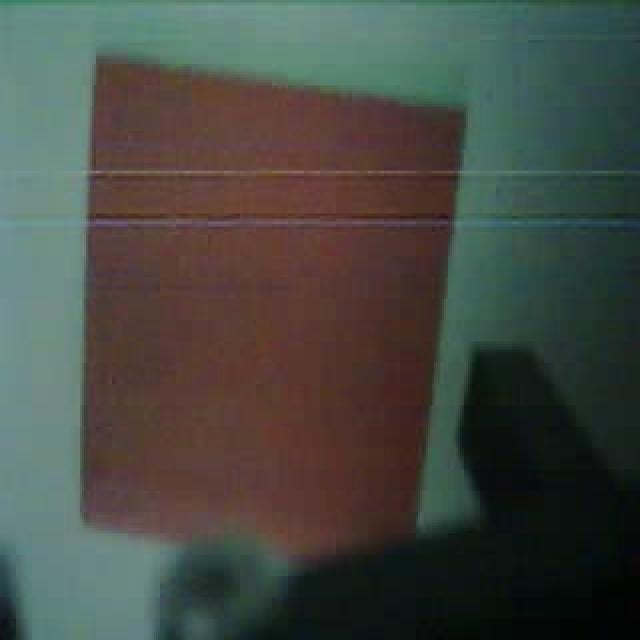red_box: (80, 53, 470, 563)
